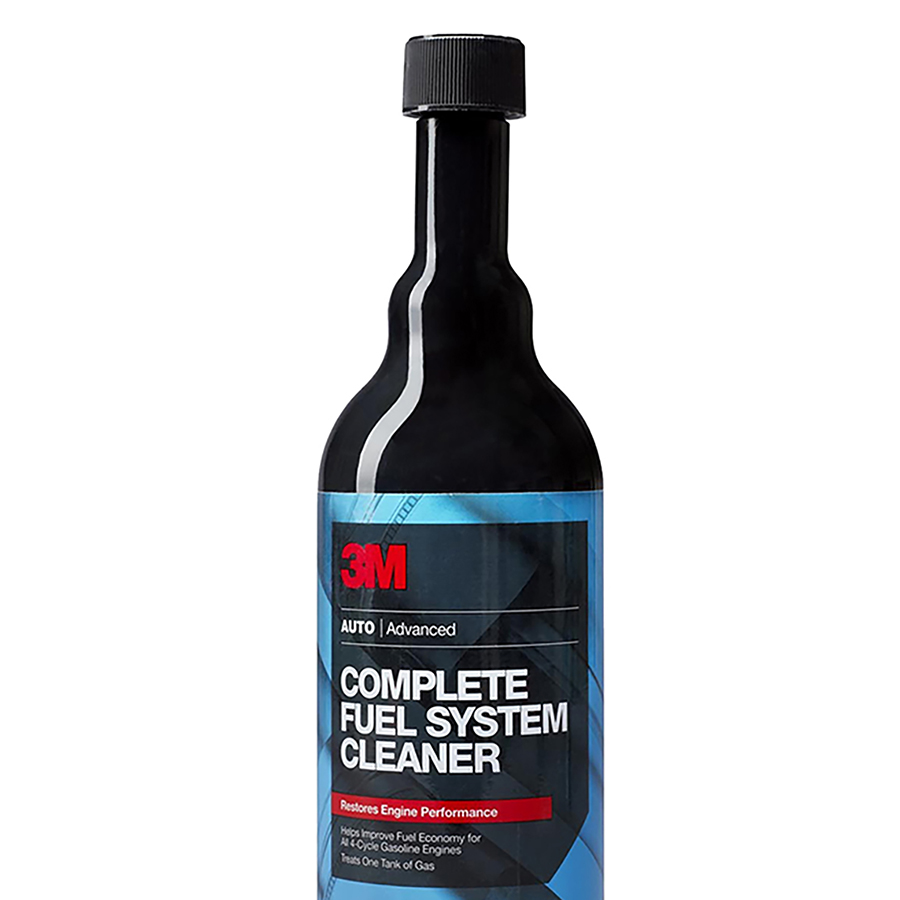3M: (336, 538, 412, 592)
